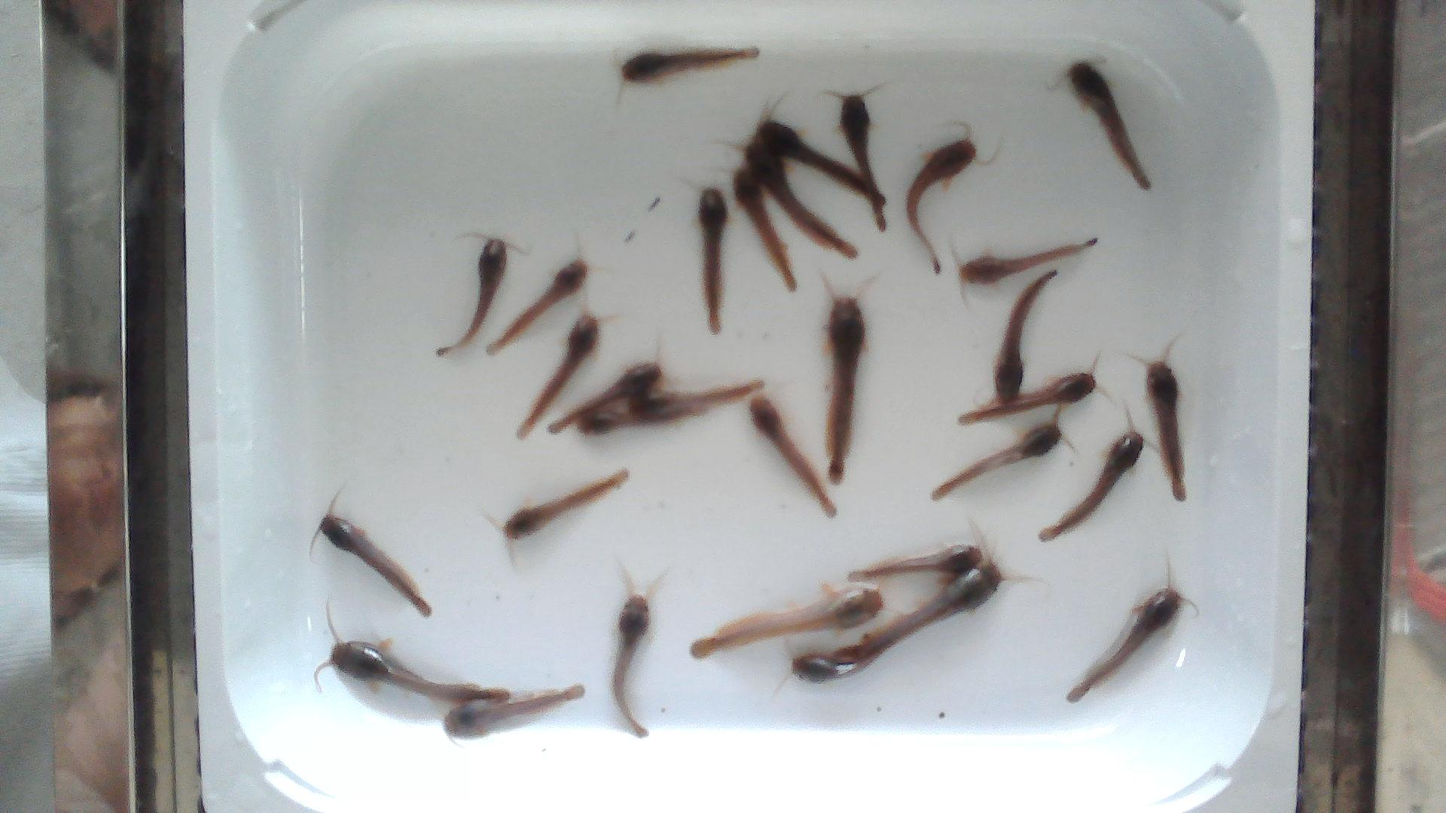lele: (831, 562, 1002, 663), (741, 139, 858, 260), (691, 585, 883, 657), (1067, 586, 1182, 701), (319, 513, 431, 616), (1040, 430, 1142, 540), (330, 642, 511, 701), (749, 395, 836, 516), (1067, 62, 1149, 189), (517, 315, 599, 438), (932, 422, 1060, 500), (757, 118, 870, 200), (489, 259, 588, 352), (906, 139, 975, 271), (546, 361, 663, 437), (732, 170, 801, 295), (503, 470, 628, 538), (995, 271, 1057, 403), (438, 239, 506, 355), (442, 687, 583, 740), (826, 299, 865, 483), (959, 373, 1096, 424), (959, 238, 1097, 285), (839, 94, 885, 230), (790, 636, 907, 683), (612, 593, 650, 737), (1147, 361, 1186, 501), (628, 378, 763, 413), (621, 48, 758, 81), (850, 546, 981, 580), (697, 190, 727, 333), (578, 407, 706, 440)
